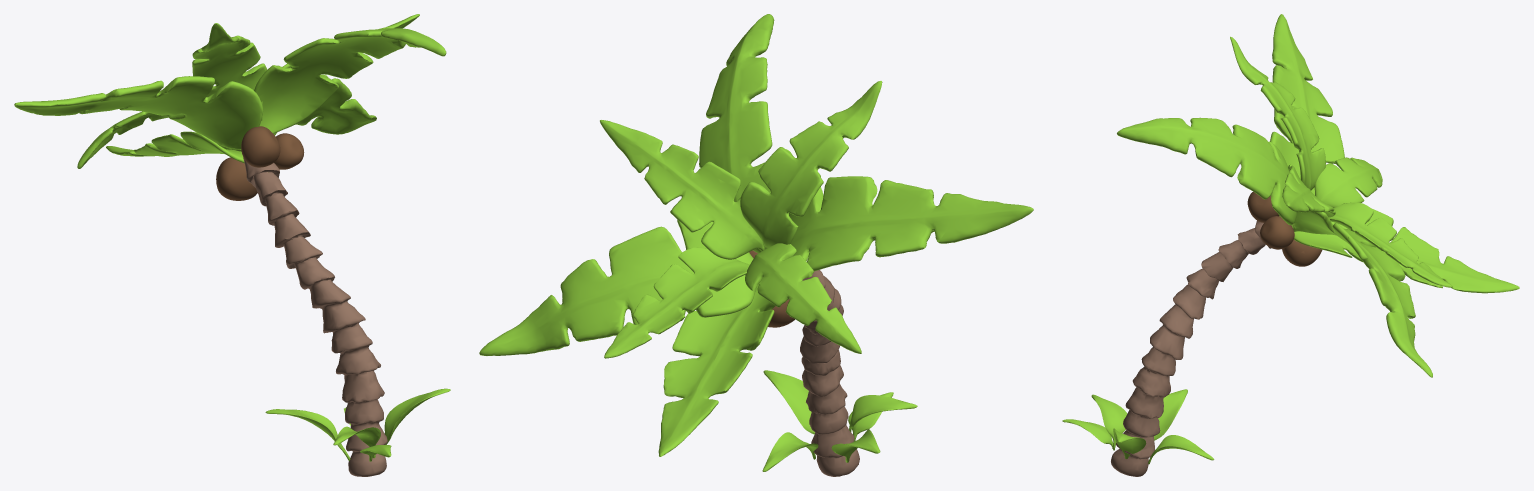
The model's file is Palm2.fbx.
3 renders of one model, left to right at view 1: azimuth 30°, elevation 25°; view 2: azimuth 150°, elevation 25°; view 3: azimuth 270°, elevation 25°, orthographic. The views are drawn at different scales.
Parts seen in each view (by area): view 1: Object_20; view 2: Object_20; view 3: Object_20.
Boxes of the visible parts, box(x1,y1,x2,y2) form: Object_20: box(14, 14, 450, 476); Object_20: box(479, 14, 1033, 476); Object_20: box(1062, 14, 1519, 476).
Size of the model in its own units: 1391 by 1302 by 1371.
